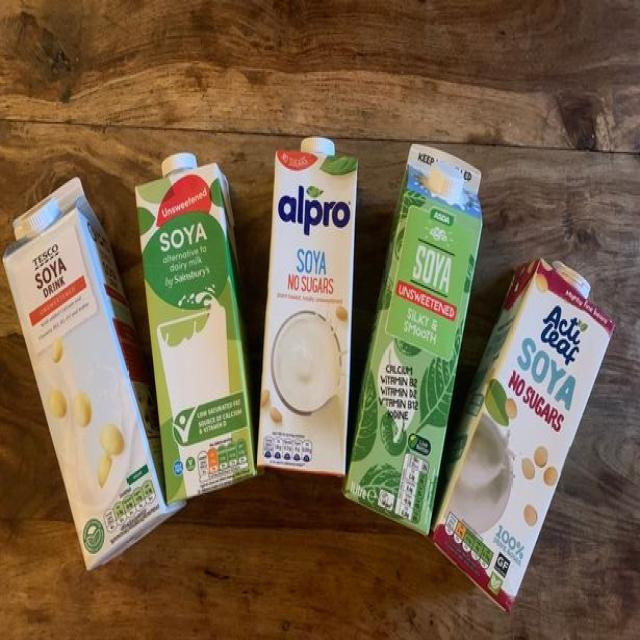cardboard: (8, 174, 174, 578), (444, 249, 616, 616), (347, 133, 482, 535), (134, 132, 252, 501), (255, 122, 352, 482)
